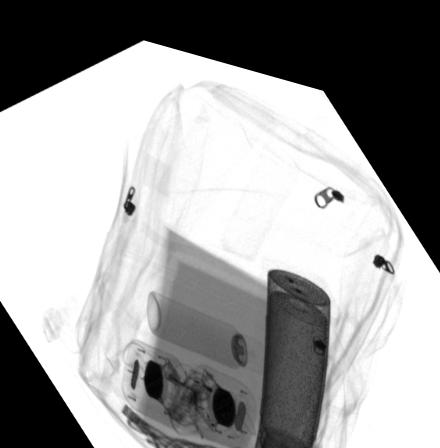Lighter: (162, 350, 212, 391)
Sprayer: (147, 282, 271, 361)
